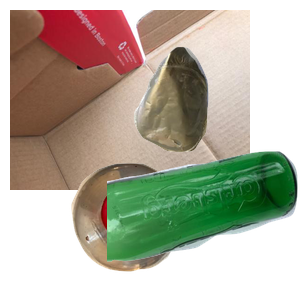cardboard: (10, 10, 250, 190)
glass: (107, 149, 300, 300)
plastic: (69, 161, 245, 300)
trash: (131, 44, 300, 189)
